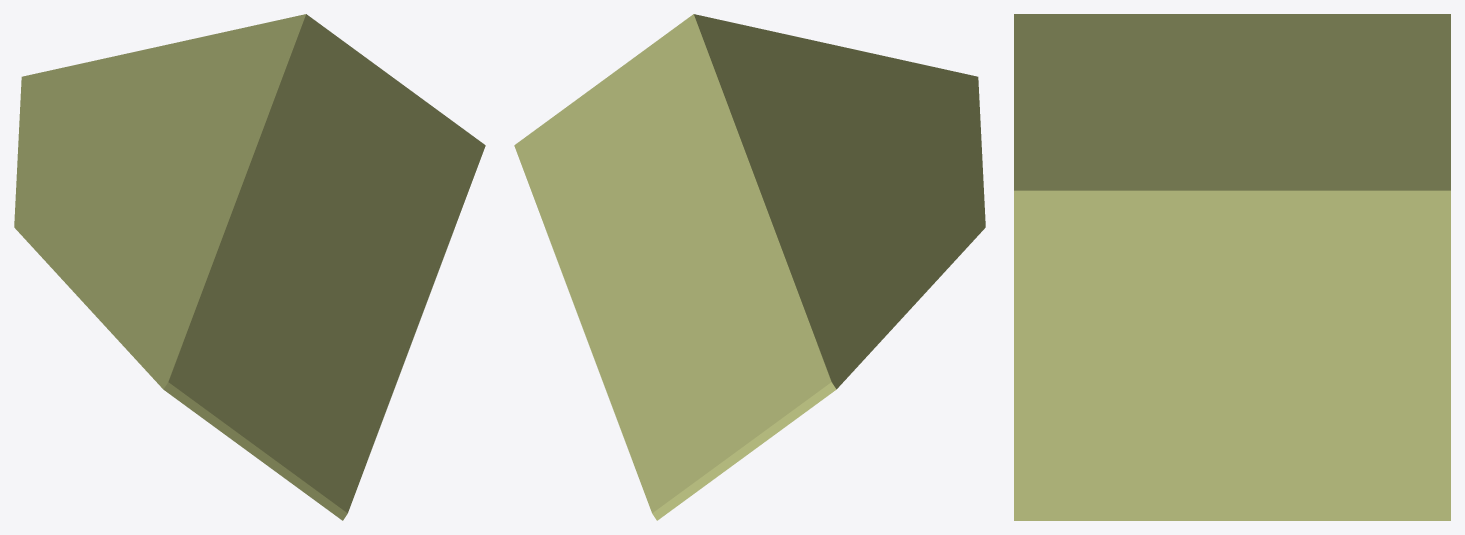
The picture shows the model from 3 angles, left to right: view 1: azimuth 30°, elevation 25°; view 2: azimuth 150°, elevation 25°; view 3: azimuth 270°, elevation 25°; orthographic projection. The views are drawn at different scales.
Parts seen in each view (by area): view 1: 0_1_3_2_1_1_2_0_0_3_2; view 2: 0_1_3_2_1_1_2_0_0_3_2; view 3: 0_1_3_2_1_1_2_0_0_3_2.
Boxes of the visible parts, x1=… form: 0_1_3_2_1_1_2_0_0_3_2: x1=14, y1=14, x2=485, y2=520; 0_1_3_2_1_1_2_0_0_3_2: x1=514, y1=14, x2=985, y2=520; 0_1_3_2_1_1_2_0_0_3_2: x1=1014, y1=14, x2=1450, y2=520.
Size of the model in its own units: 8.46 by 9.61 by 9.
